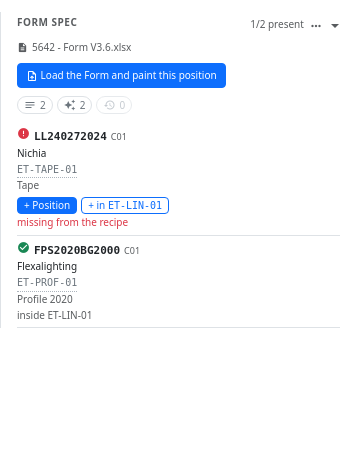
Test: FormSpecPane renders the Form beside the recipe › recipe rows absent from the Form are derived detail, never errors
Step 1. Click the button named "In the recipe, not specified by the Form — derived detail, not a problem" → x=75, y=105, box [57,96,92,114]
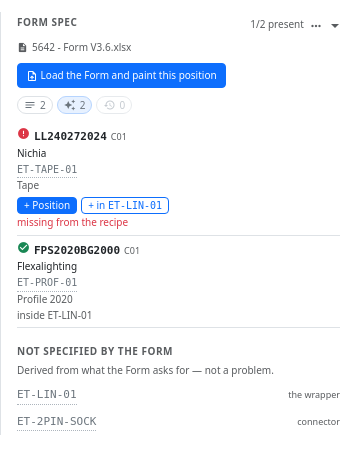
Now the text "Not specified by the Form" is shown, box [17,344,173,358]
Now the text "ET-2PIN-SOCK" is shown, box [17,414,96,428]
Now the text "connector" is shown, box [297,414,340,428]
